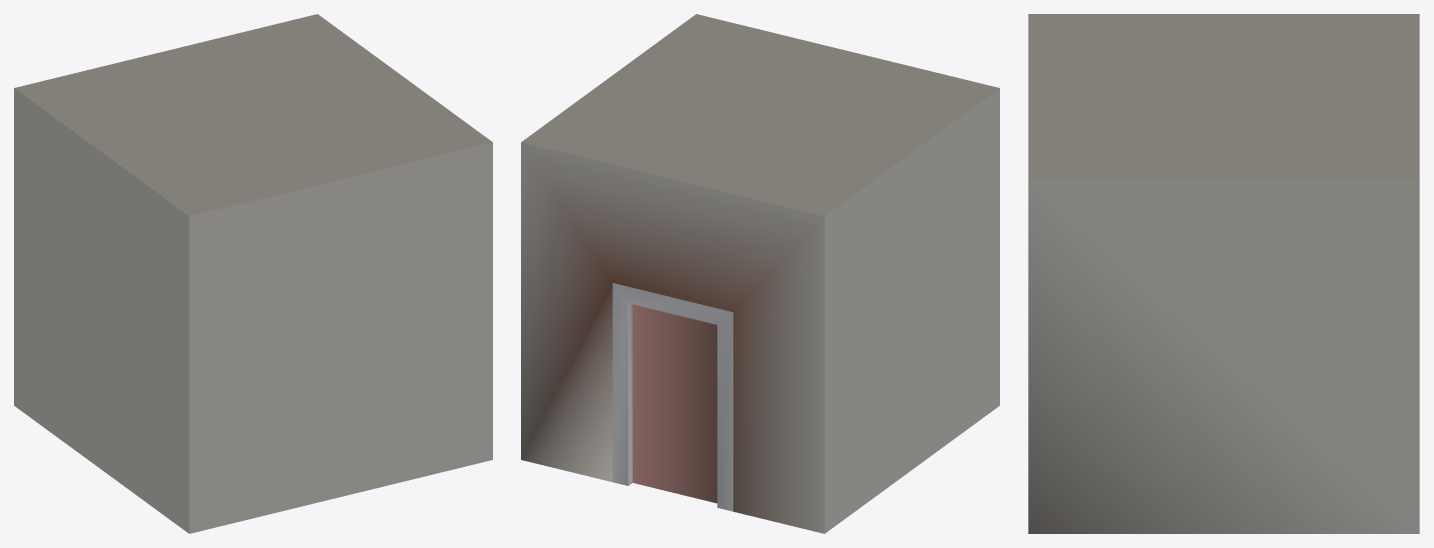
File: wall-a-door.glb
The picture shows the model from 3 angles, left to right: view 1: azimuth 30°, elevation 25°; view 2: azimuth 150°, elevation 25°; view 3: azimuth 270°, elevation 25°; orthographic projection. The views are drawn at different scales.
Visible parts, largest first — view 1: wall-a-door; view 2: wall-a-door; view 3: wall-a-door.
Part boxes in pixels (<box>): wall-a-door: <box>14,14,492,533</box>; wall-a-door: <box>521,14,999,533</box>; wall-a-door: <box>1028,14,1419,533</box>.
Bounding box in the file's own units: 1 × 1 × 1.
